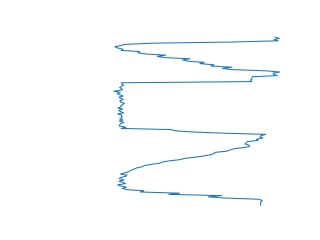distributaryChannelFill: (111, 72, 268, 141)
mouthBar: (111, 33, 282, 78)
underwaterDistributaryChannel: (113, 136, 267, 208)
